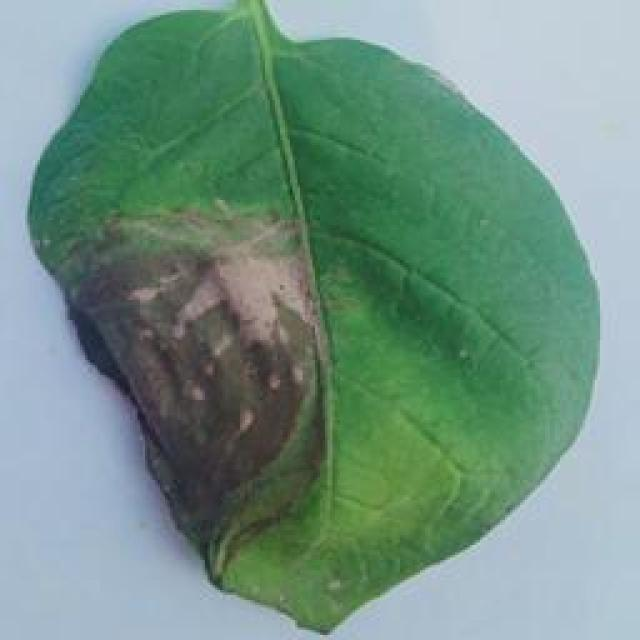Potato_Late_Blight: (12, 4, 600, 640)
